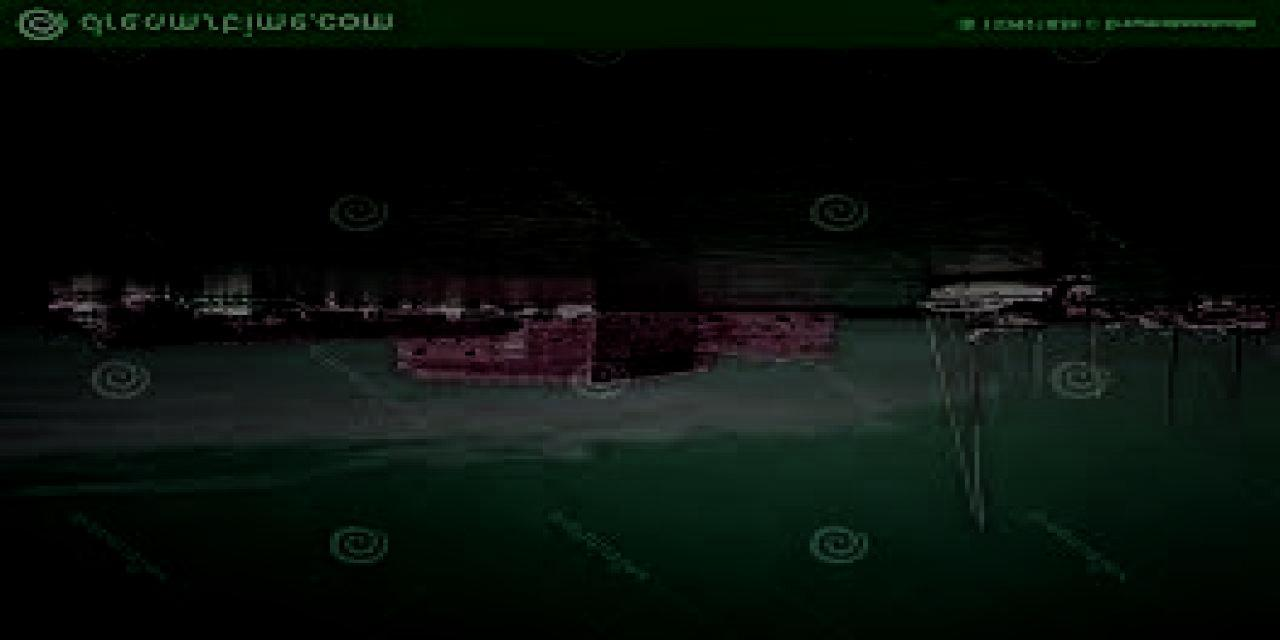Kules: (397, 308, 842, 384)
